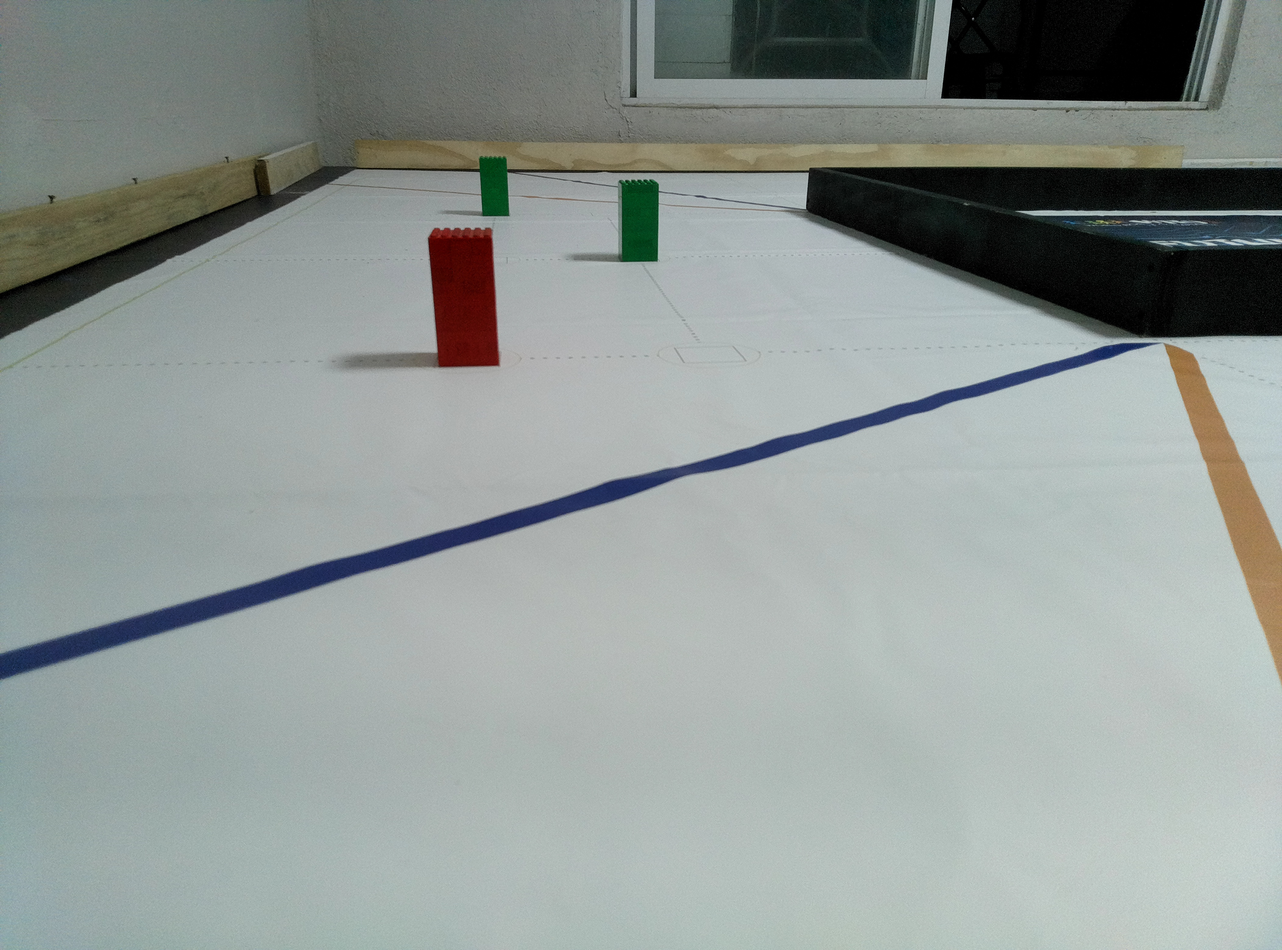greenbox: (617, 179, 659, 262), (478, 155, 510, 217)
redbox: (428, 227, 500, 368)
